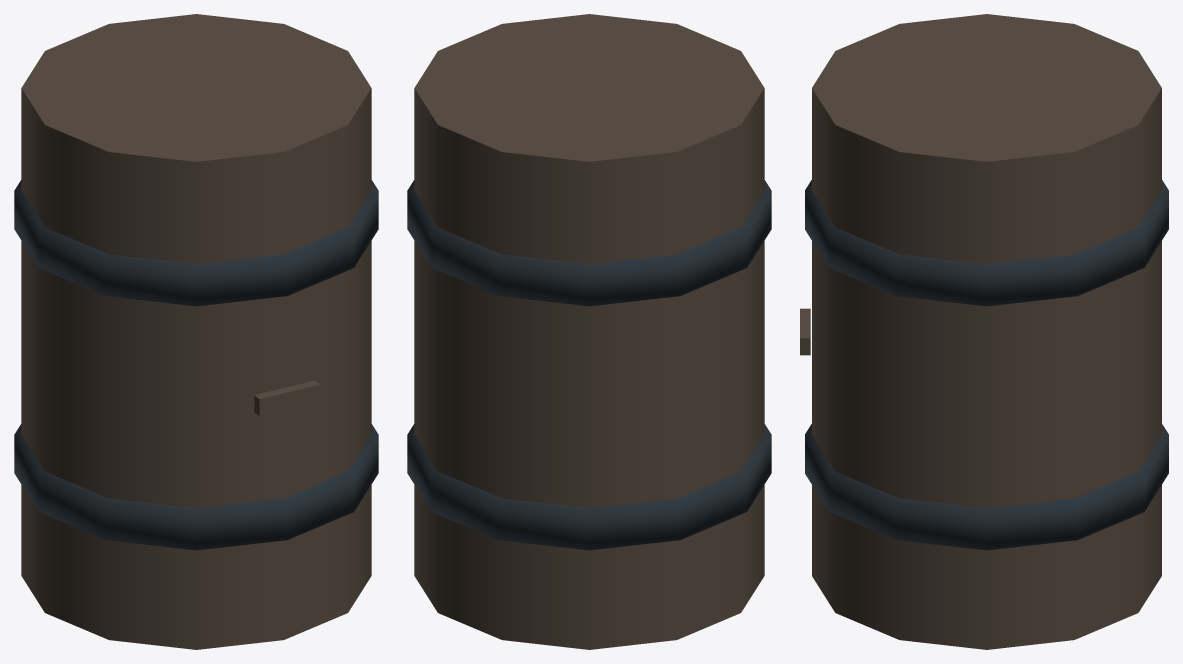
File: drum-1.glb
3 views of the same model, side by side, from view 1: azimuth 30°, elevation 25°; view 2: azimuth 150°, elevation 25°; view 3: azimuth 270°, elevation 25° (orthographic).
Parts seen in each view (by area): view 1: drum/0/KR-230-1; view 2: drum/0/KR-230-1; view 3: drum/0/KR-230-1.
Part boxes in pixels (x1,y1,x2,y2): drum/0/KR-230-1: [14, 14, 378, 649]; drum/0/KR-230-1: [407, 14, 771, 649]; drum/0/KR-230-1: [800, 14, 1168, 649].
Bounding box in the file's own units: 0.676 × 1 × 0.685.
